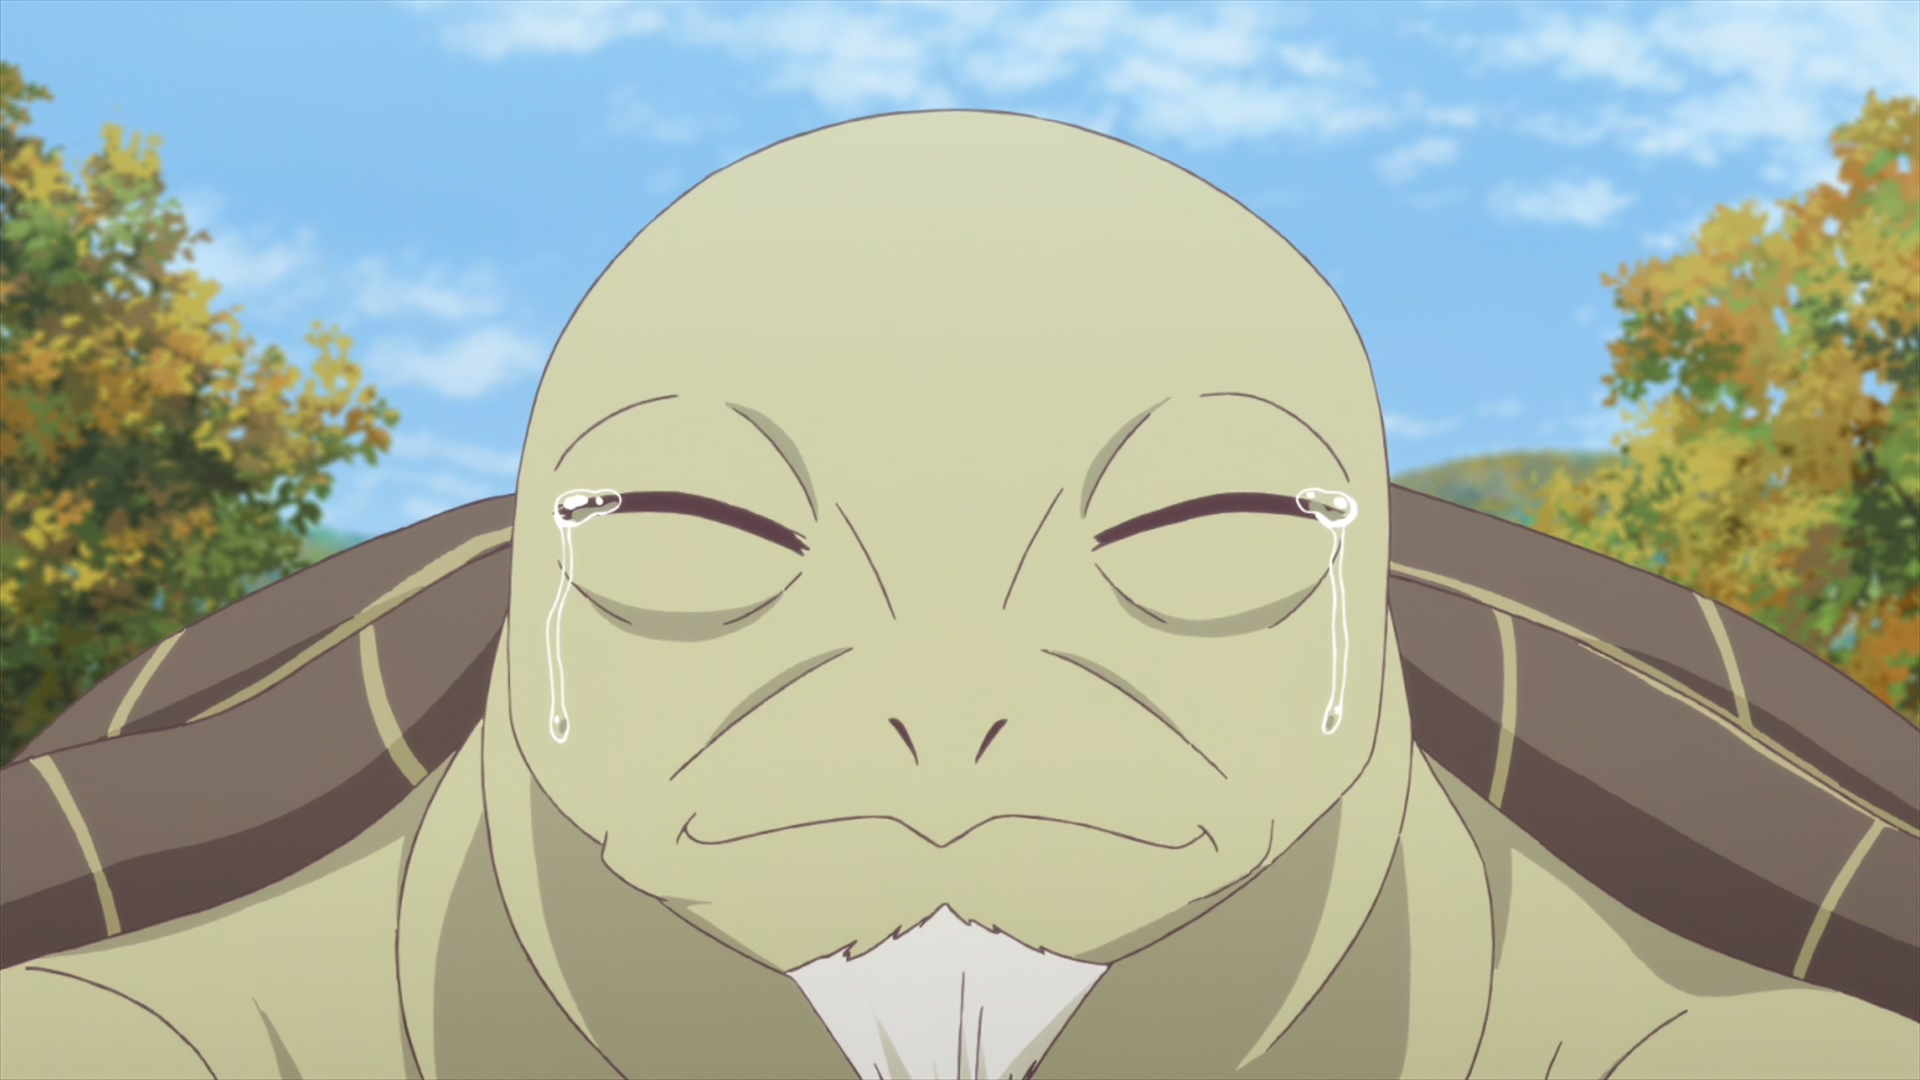其他: (1, 108, 1920, 1080)
